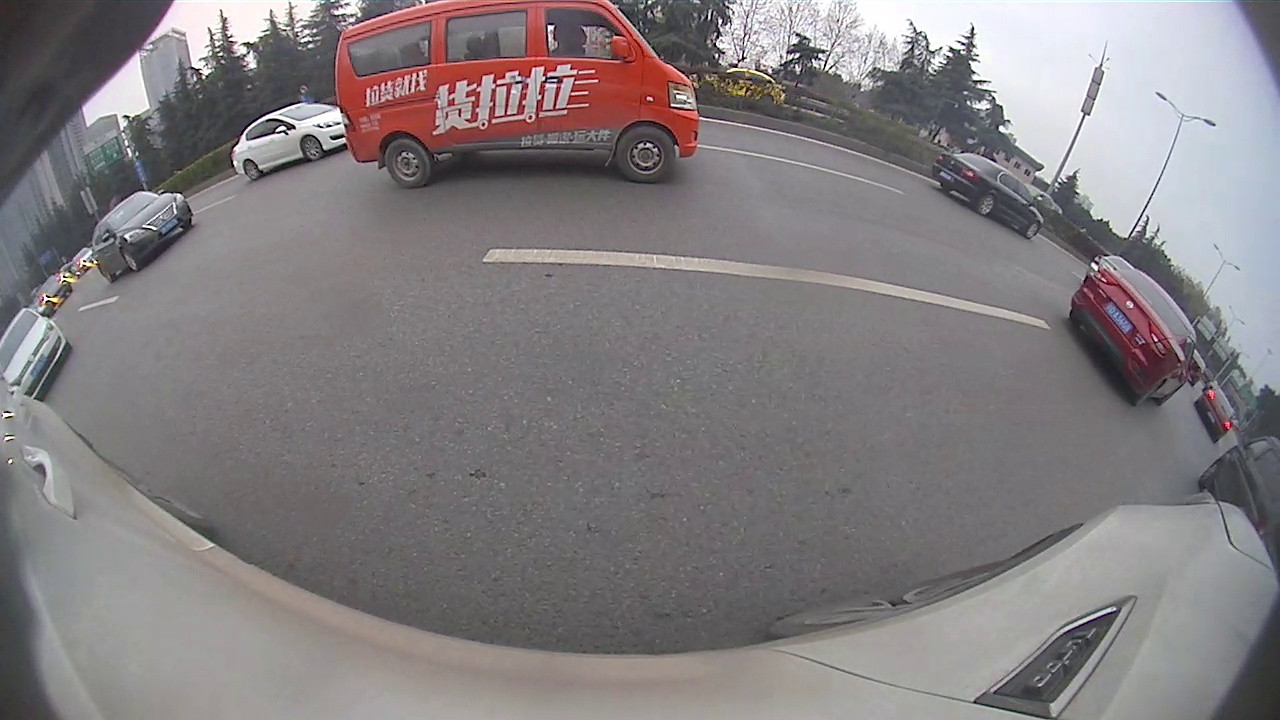car: (333, 1, 702, 190), (1069, 265, 1199, 410), (931, 151, 1046, 239), (91, 189, 193, 285), (228, 105, 347, 184), (2, 308, 72, 401), (1192, 379, 1234, 445)
front: (613, 125, 676, 184), (119, 245, 144, 275), (298, 136, 324, 164), (1021, 220, 1041, 241)
rear: (385, 137, 433, 191), (976, 192, 997, 217), (243, 158, 262, 182)
